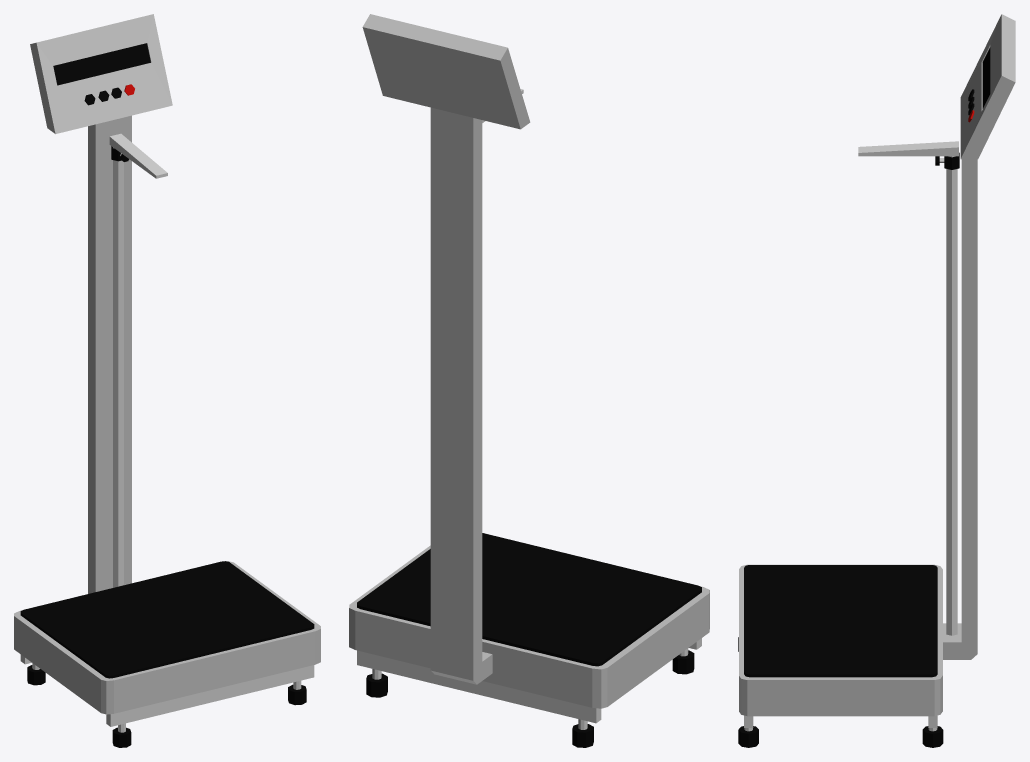
Rendered from H_Balance.fbx.
3 views of the same model, side by side, from view 1: azimuth 30°, elevation 25°; view 2: azimuth 150°, elevation 25°; view 3: azimuth 270°, elevation 25° (orthographic). The views are drawn at different scales.
Parts seen in each view (by area): view 1: H_Balance; view 2: H_Balance; view 3: H_Balance.
Boxes of the visible parts, <box> form: H_Balance: <box>14,14,320,747</box>; H_Balance: <box>349,14,709,747</box>; H_Balance: <box>738,14,1015,747</box>.
Bounding box in the file's own units: 361 × 366 × 954.
